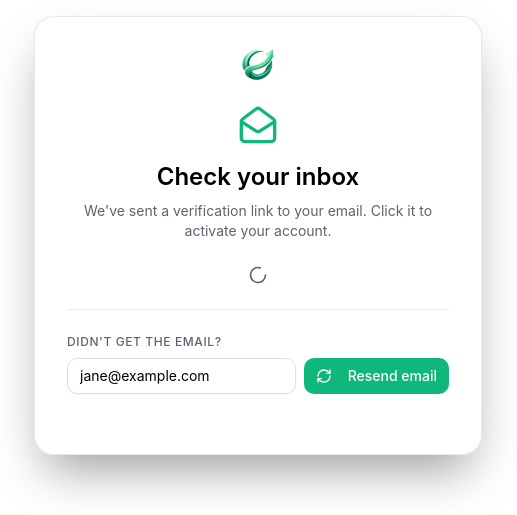
Test: VerifyEmailPage — resend action › shows a loading state while the request is in-flight and disables the input+button
The width and height of the screenshot is (517, 515).
Later steps or results of the test are not shown.
Expected: the field labelled "Didn't get the email?" holds "jane@example.com", [67,358,296,394]
Step 1. Click the button "Resend email" → point(376, 376), box [304,358,449,394]
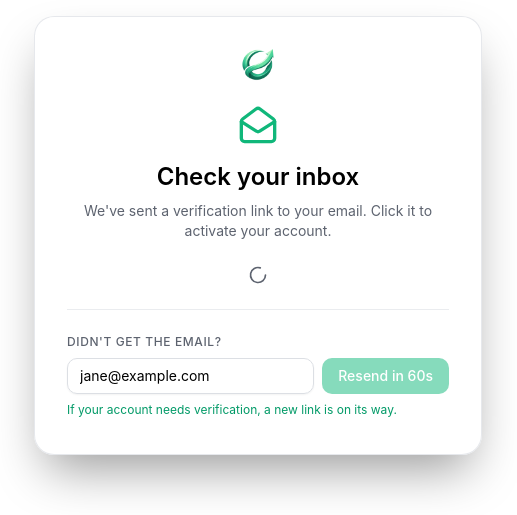
Expected: the button named "sending" is disabled, [322,358,449,394]
